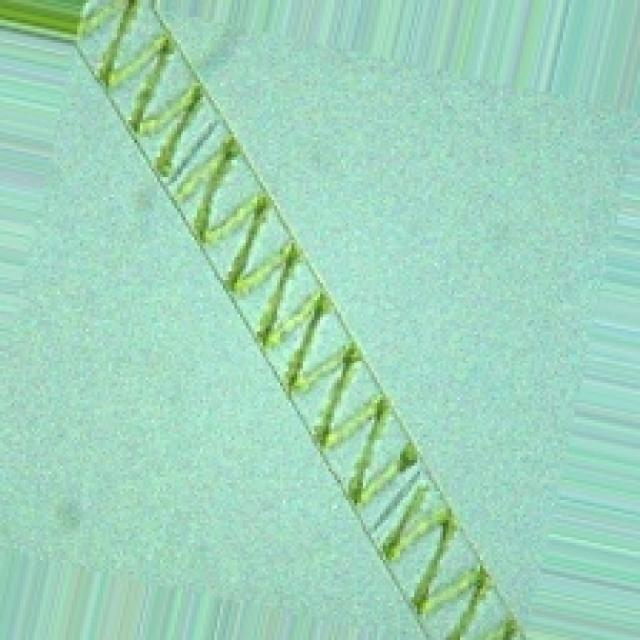Spiral_bacteria: (68, 0, 543, 637)
